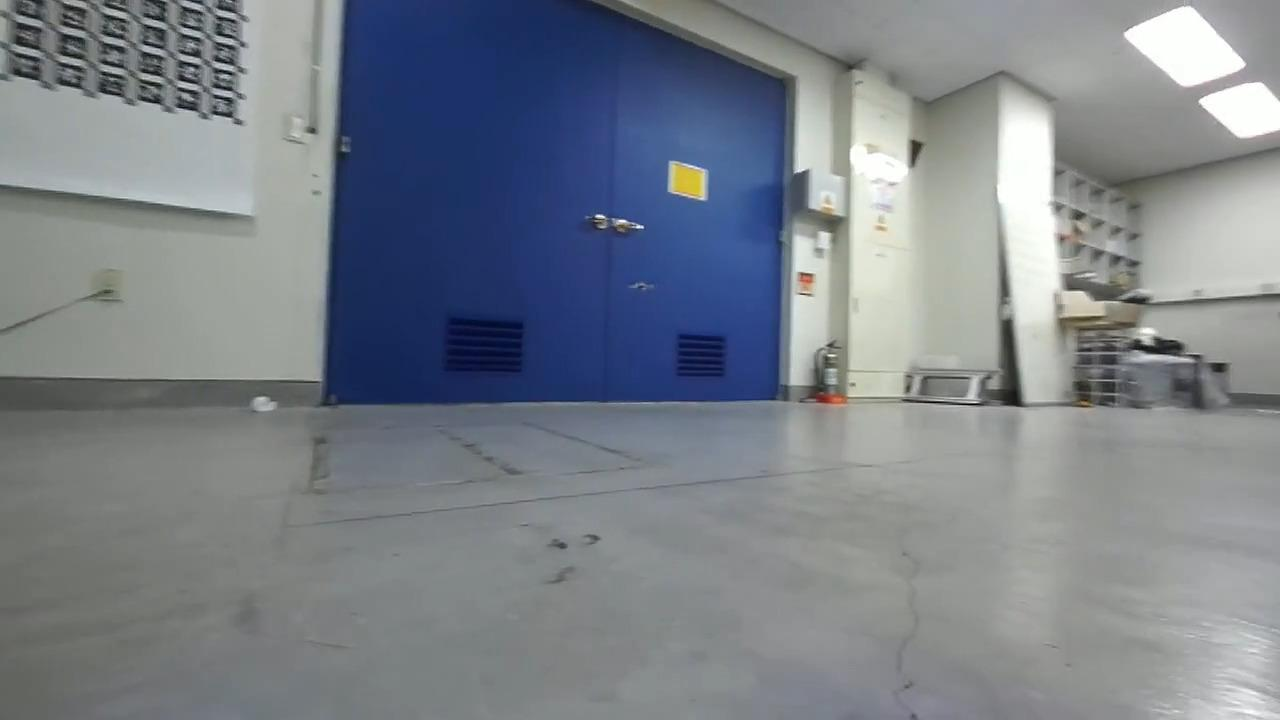crazyflie: (619, 278, 663, 295)
